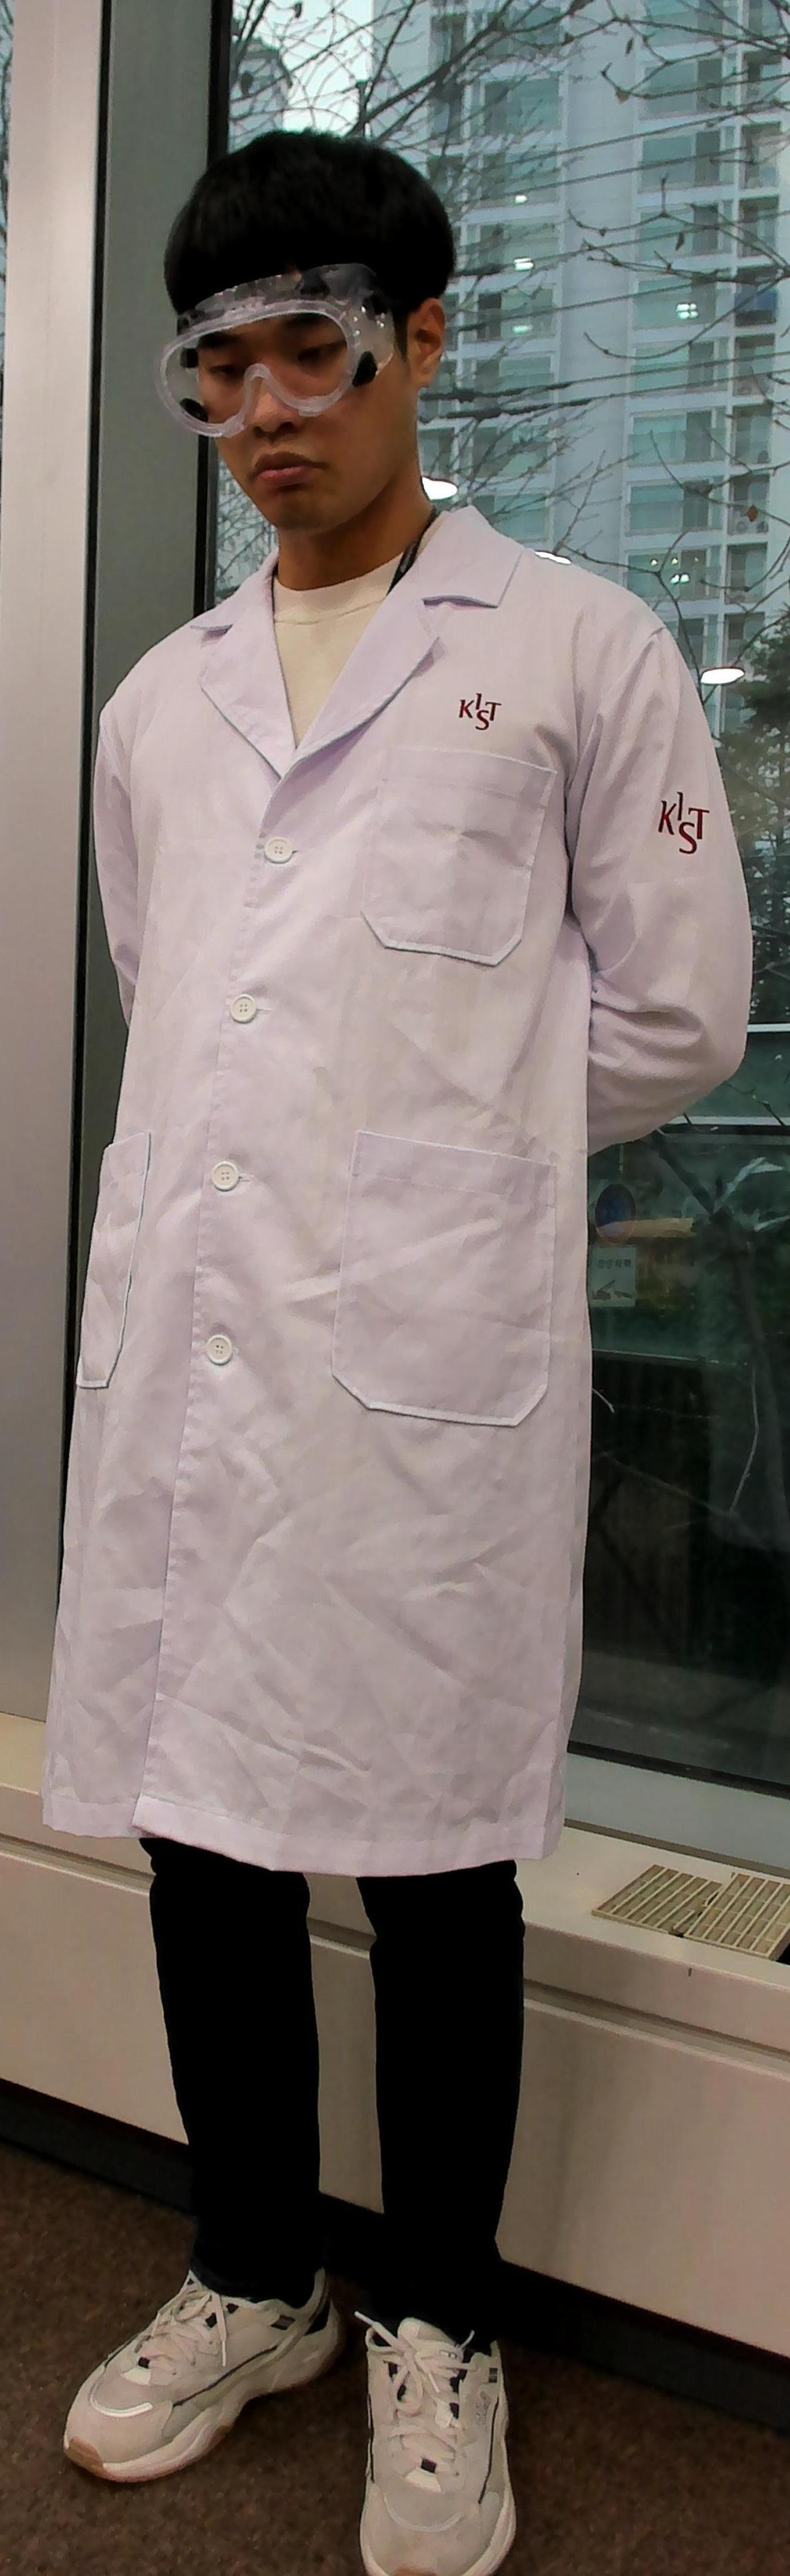lab_coat: (28, 646, 693, 1858)
